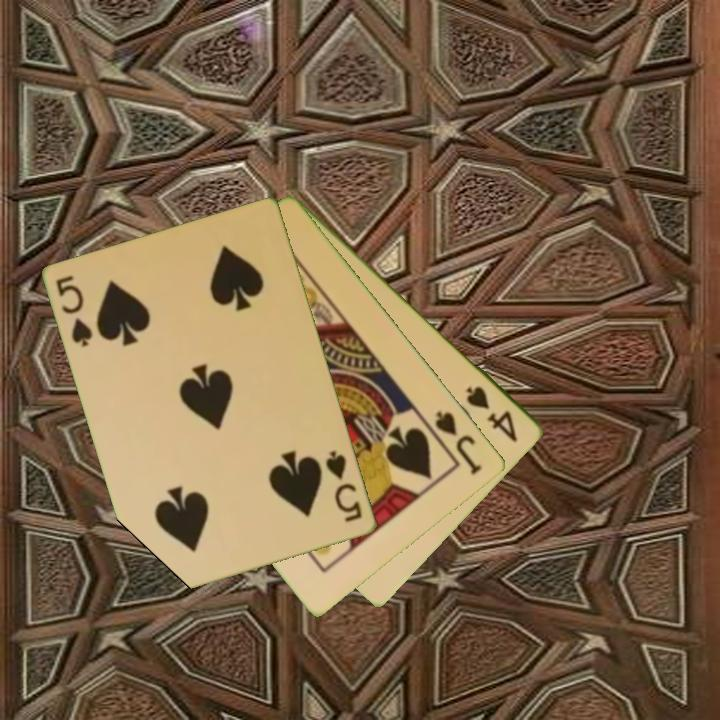4s: (463, 382, 521, 445)
5s: (322, 447, 366, 525), (53, 272, 96, 350)
Js: (432, 407, 486, 478)
